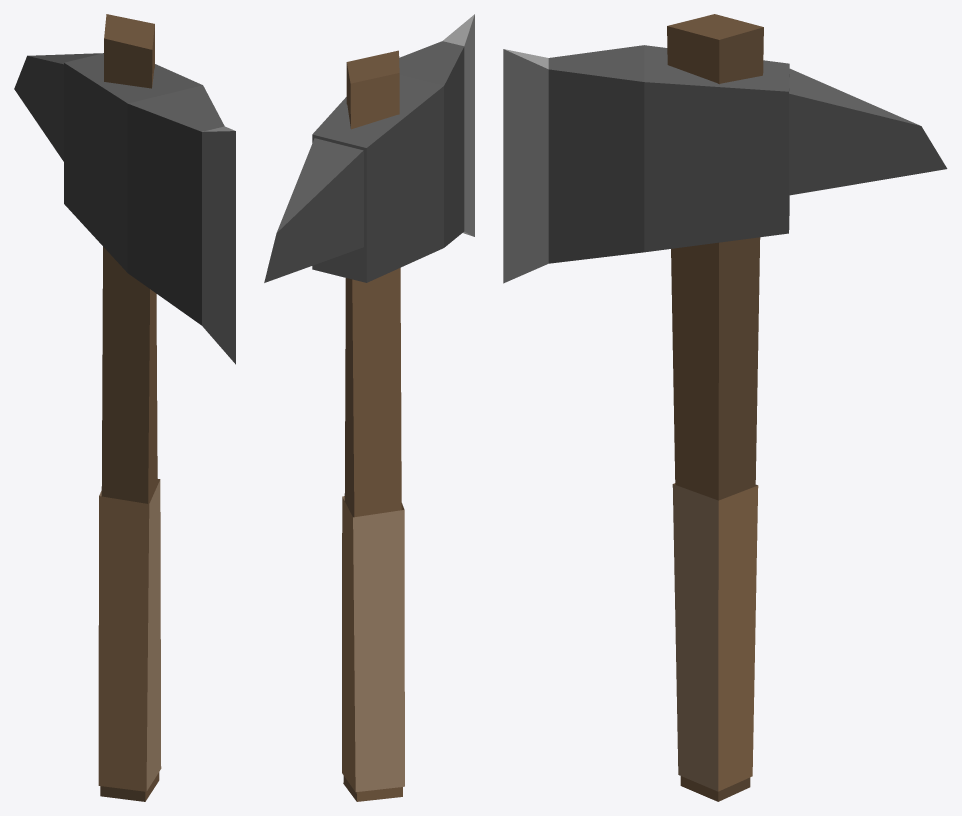
The model's file is Item_Fireaxe00.FBX.
3 renders of one model, left to right at view 1: azimuth 30°, elevation 25°; view 2: azimuth 150°, elevation 25°; view 3: azimuth 270°, elevation 25°, orthographic. The views are drawn at different scales.
Parts seen in each view (by area): view 1: Item_Fireaxe00; view 2: Item_Fireaxe00; view 3: Item_Fireaxe00.
Boxes of the visible parts, x1,y1,x2,y2 form: Item_Fireaxe00: [14, 14, 235, 801]; Item_Fireaxe00: [264, 14, 474, 801]; Item_Fireaxe00: [503, 14, 947, 801].
Size of the model in its own units: 5.94 by 57.04 by 30.21.
